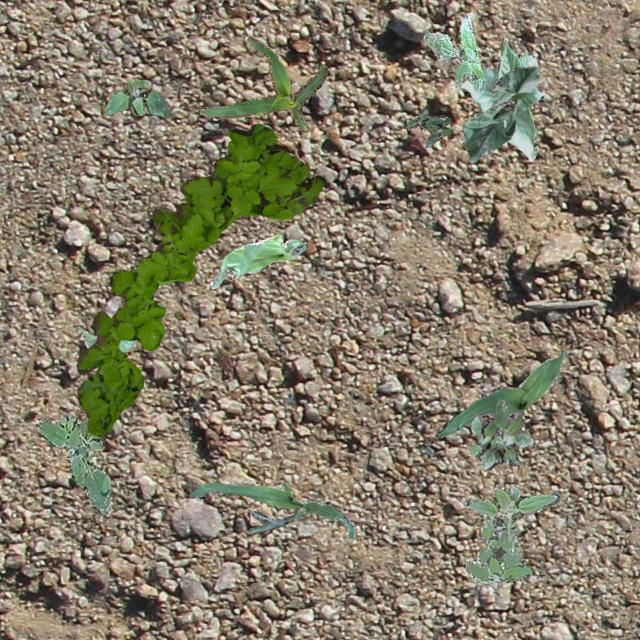crop: (198, 36, 326, 132), (434, 348, 566, 438), (460, 38, 544, 160), (188, 481, 354, 538), (463, 66, 537, 162), (210, 234, 304, 288), (76, 326, 136, 350)
weed: (76, 122, 324, 436), (464, 483, 560, 582), (36, 414, 110, 514), (422, 15, 483, 90), (470, 398, 532, 468), (104, 80, 170, 116), (404, 108, 450, 146)
